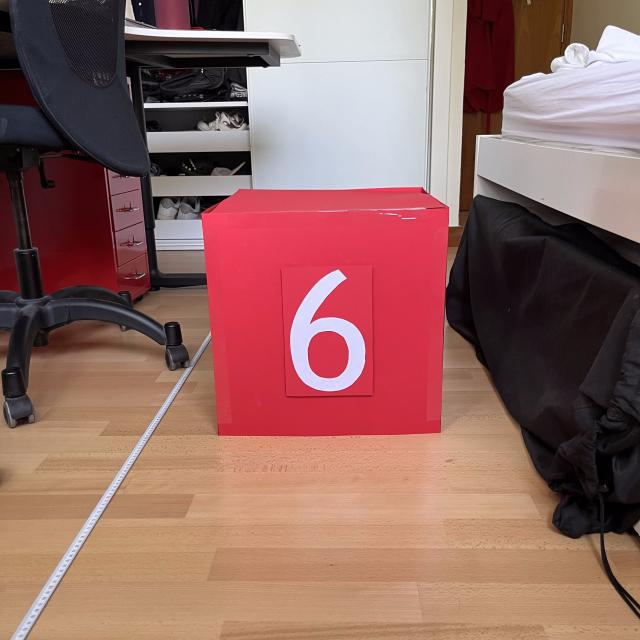box: (195, 182, 452, 440)
